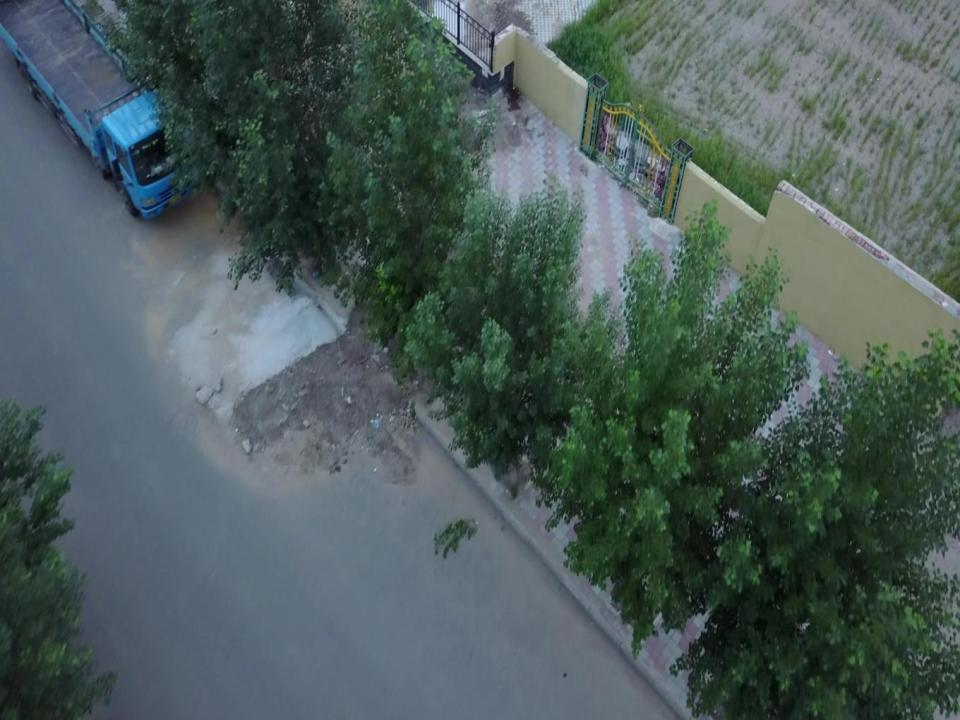car: (0, 1, 213, 224)
